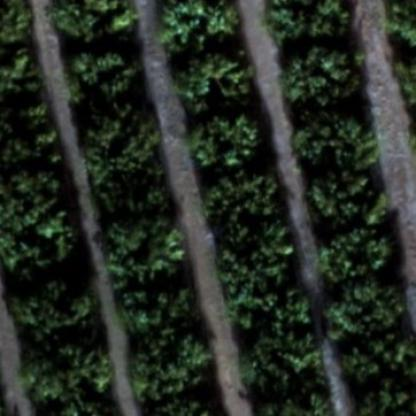Canopy-Citrus: (76, 110, 161, 186), (280, 43, 368, 113), (127, 334, 218, 401), (23, 339, 114, 406), (216, 231, 298, 301), (96, 224, 190, 282), (155, 0, 243, 60), (200, 170, 283, 233), (291, 111, 379, 169), (116, 278, 197, 340), (4, 280, 93, 335), (0, 215, 80, 276), (247, 358, 332, 415), (305, 168, 387, 226), (237, 301, 319, 359), (176, 60, 258, 116), (50, 0, 140, 51), (65, 52, 145, 108), (325, 286, 405, 341), (319, 225, 393, 283), (190, 116, 269, 170), (335, 338, 415, 388), (268, 0, 358, 43), (1, 158, 66, 214), (0, 105, 57, 158), (0, 55, 46, 105), (0, 1, 34, 55), (353, 388, 415, 415)
